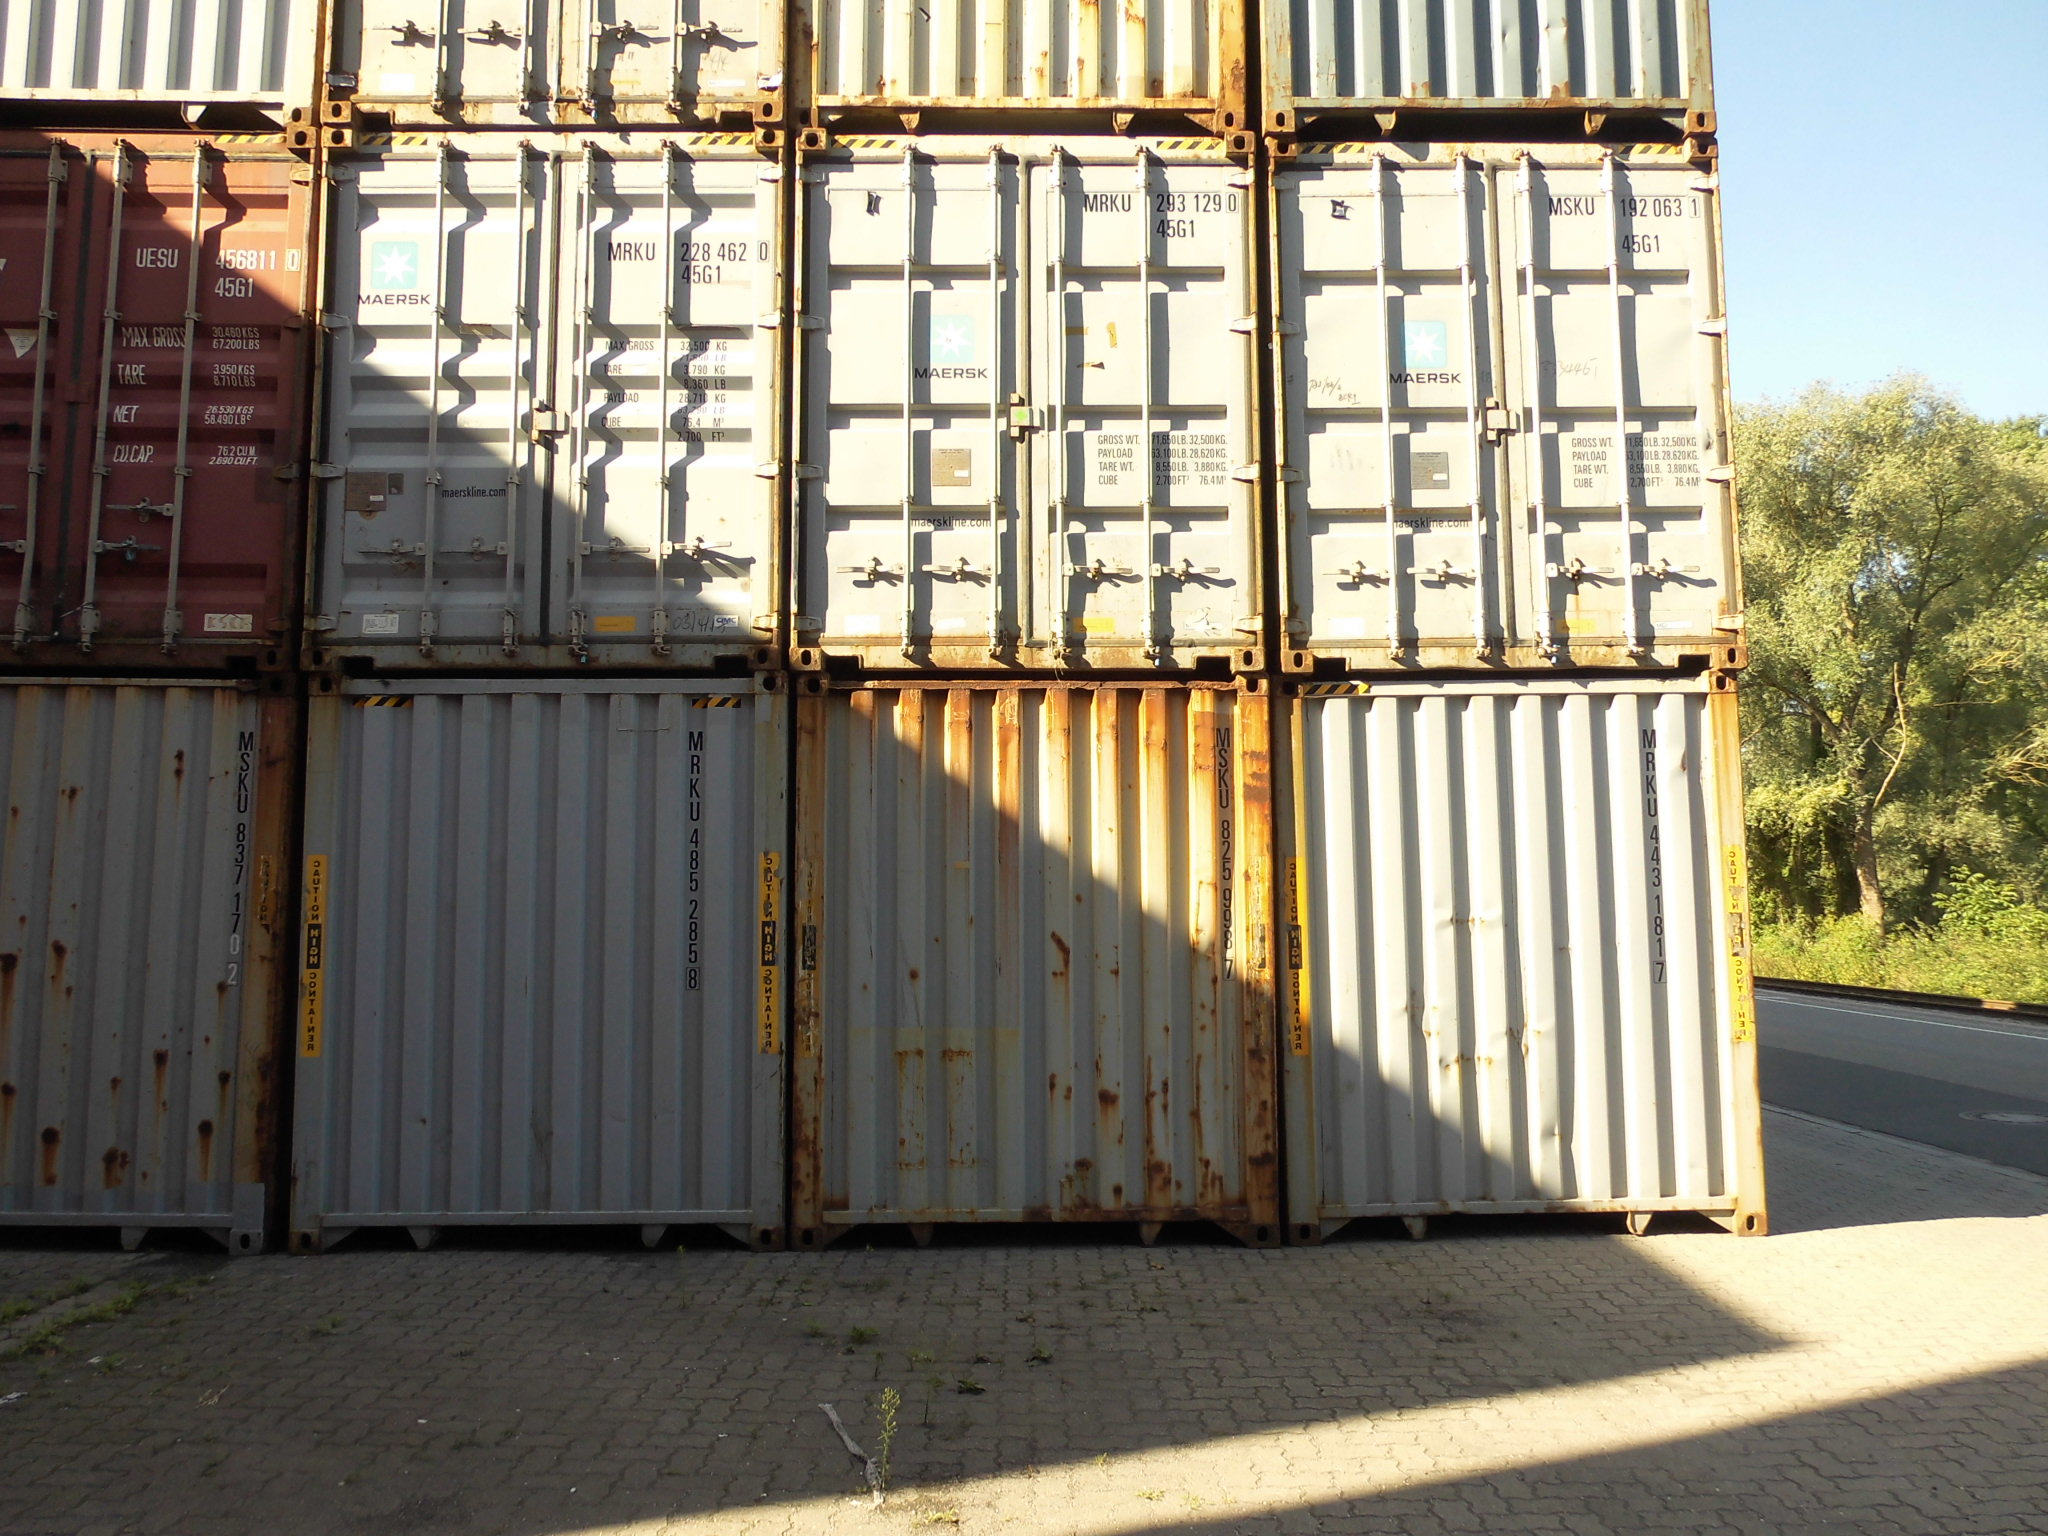container_door: (331, 139, 764, 665), (821, 136, 1255, 662), (1301, 139, 1734, 665), (2, 127, 290, 653)
container_no_door: (818, 684, 1271, 1241), (311, 682, 764, 1238), (1308, 689, 1759, 1246), (3, 679, 276, 1246)
